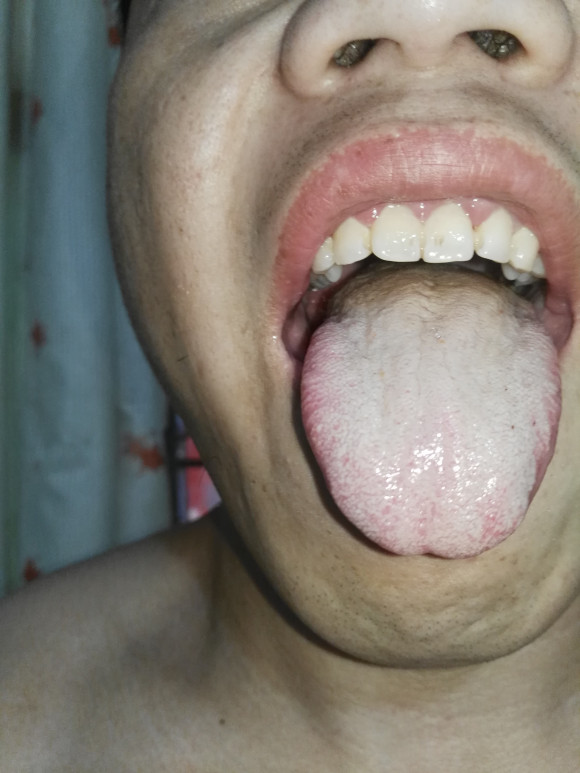baitaishe: (300, 265, 560, 559)
